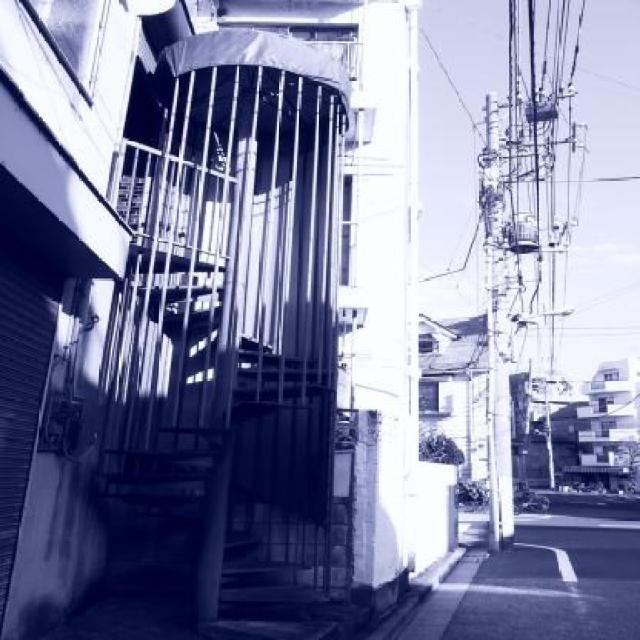stair: (111, 231, 349, 640)
